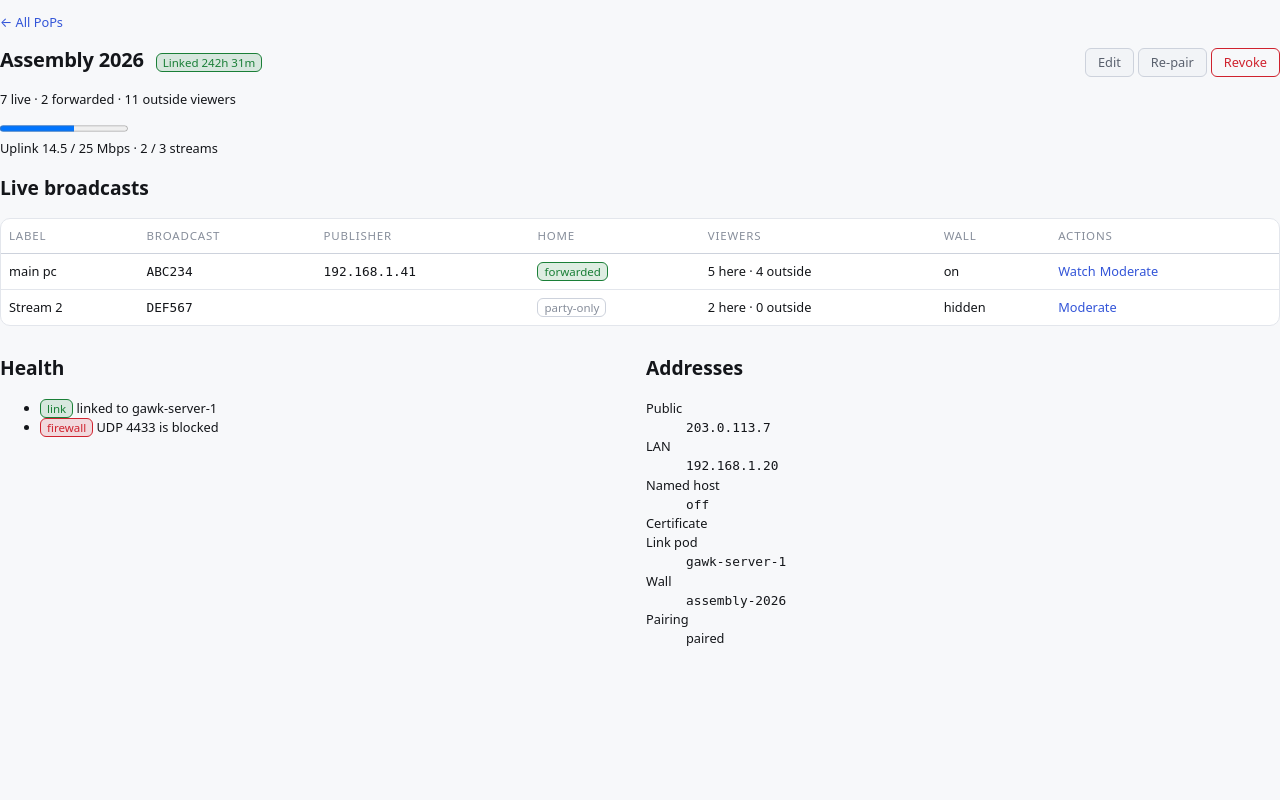
the PoPs view: other states, errors and cancels › says why a re-pair failed, and cancels the confirmation
The width and height of the screenshot is (1280, 800).
Click the button "Re-pair": (1172, 62) [1138,48,1207,77]
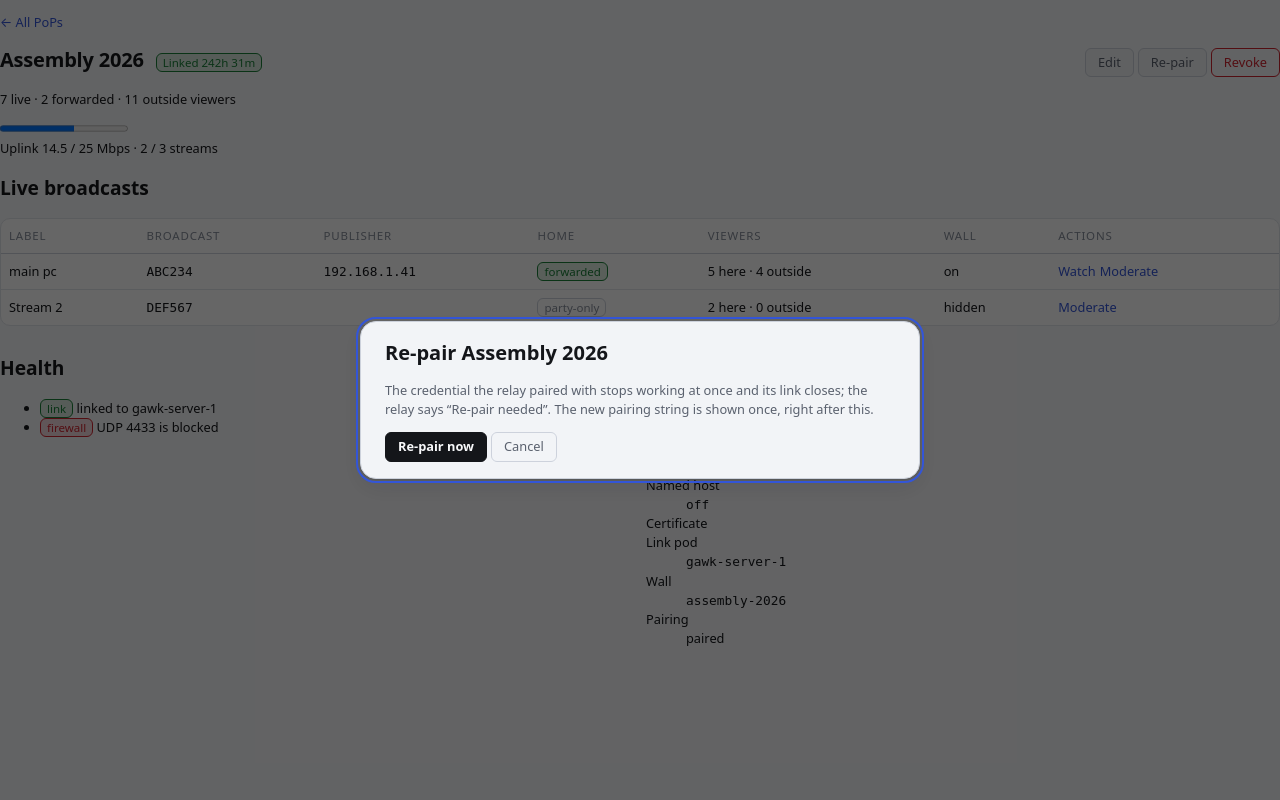
Click the button "Re-pair now": (436, 447) [385,432,487,462]
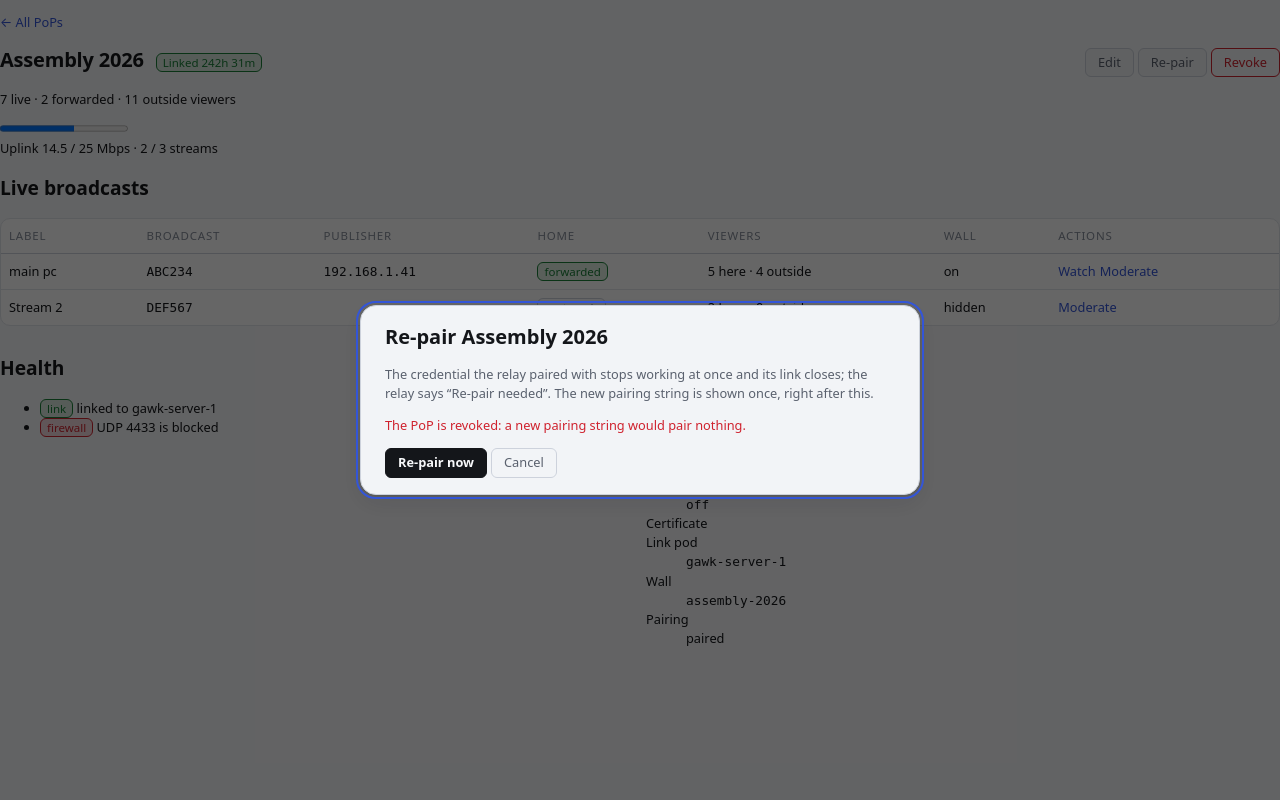
expect the text "The PoP is revoked: a new pairing string would pair nothing." is shown: met, box [385,416,746,434]
Click the button "Cancel": (524, 463) [491,448,557,478]
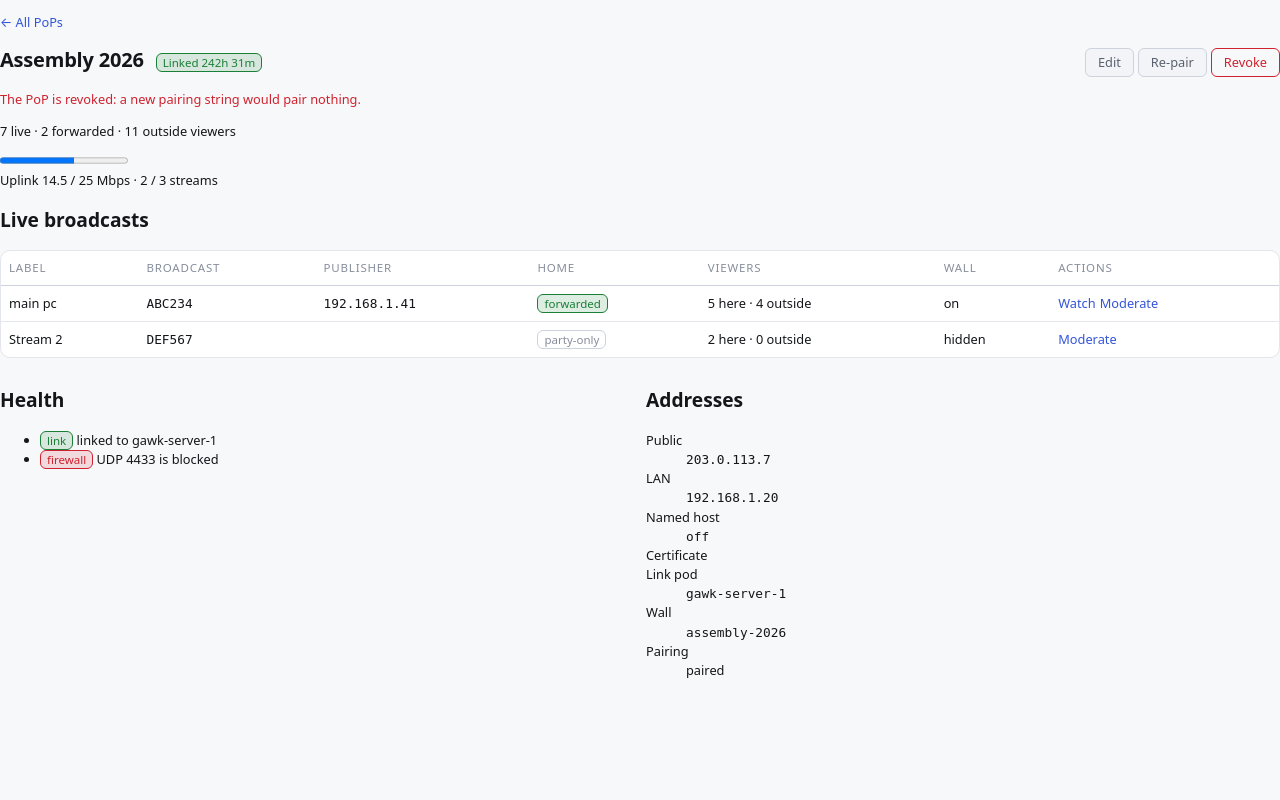
expect the button "Re-pair now" is gone: met
